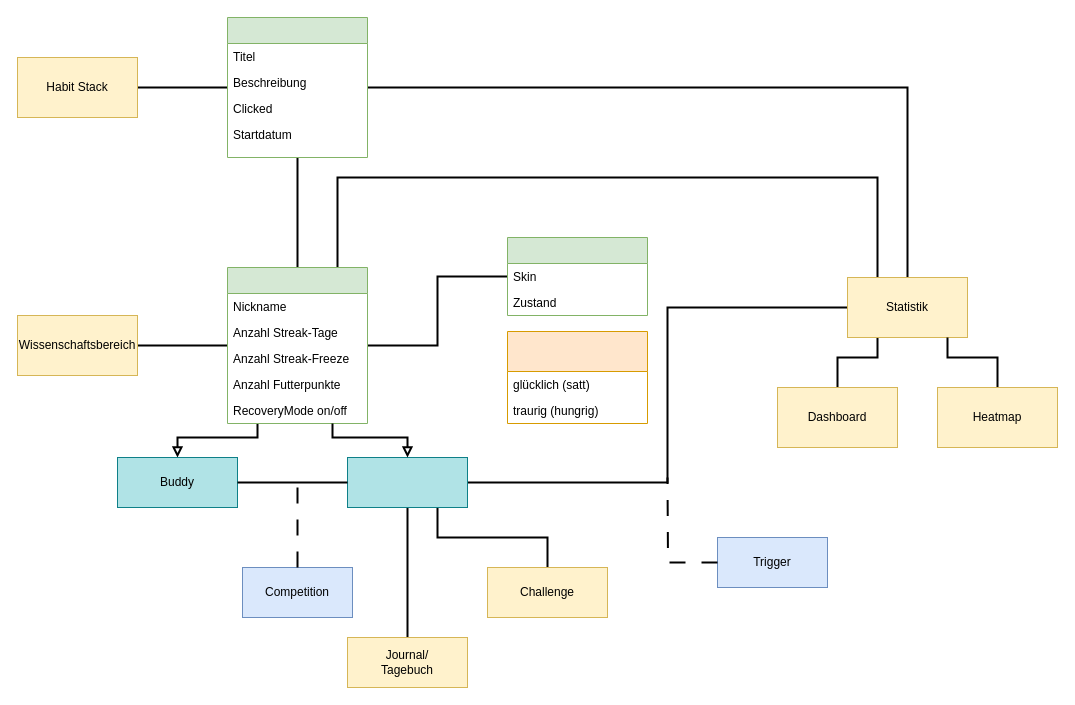
This 1075x705 diagram has some shape labels left out. Here are the shapes that lost their labels. From the top down, the box of each, then its label:
(226, 16, 368, 158): Habit
(506, 236, 648, 316): Gewohnheitstier
(226, 266, 368, 424): Person
(506, 330, 648, 424): «enumeration» Zustand
(346, 456, 468, 508): Nutzer/in
